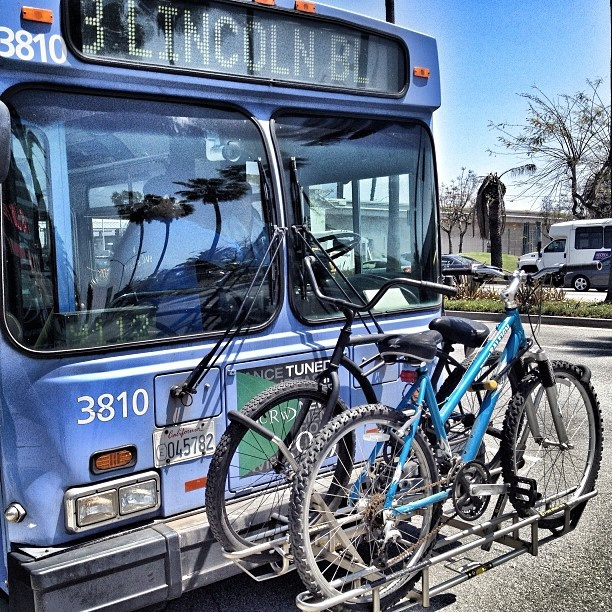non-vehicle: (289, 255, 604, 602), (198, 264, 515, 556)
